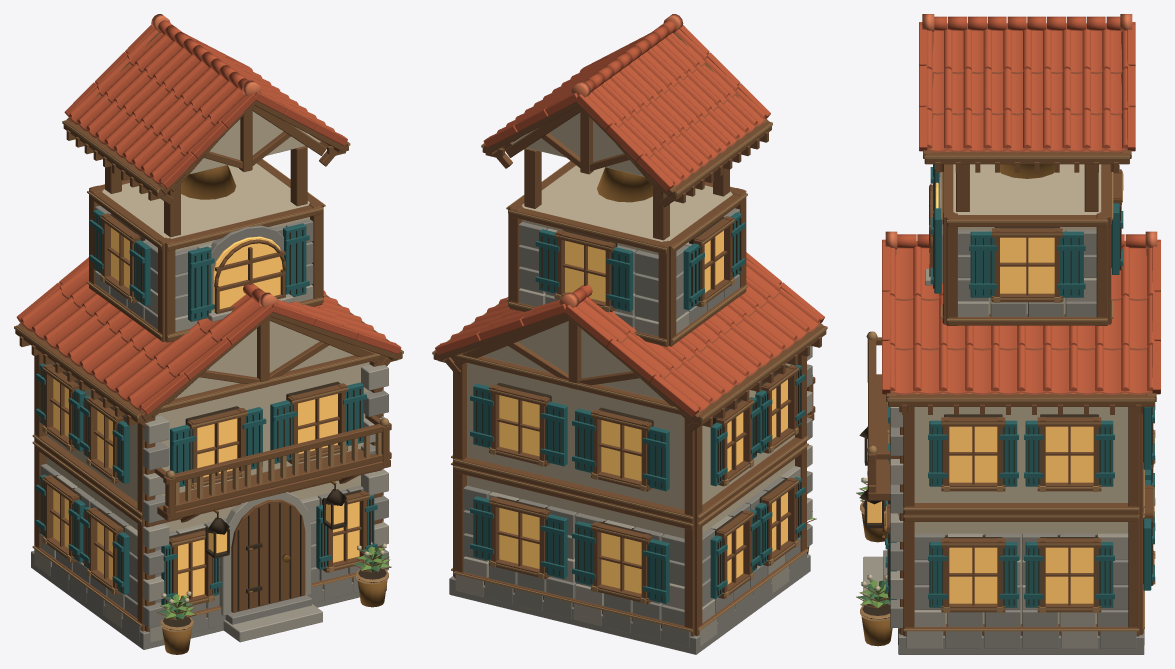
3 views of the same model, side by side, from view 1: azimuth 30°, elevation 25°; view 2: azimuth 150°, elevation 25°; view 3: azimuth 270°, elevation 25° (orthographic). The views are drawn at different scales.
Parts seen in each view (by area): view 1: alpine_tower_3_geometry, alpine_tower_3_geometry ceramic; view 2: alpine_tower_3_geometry, alpine_tower_3_geometry ceramic; view 3: alpine_tower_3_geometry, alpine_tower_3_geometry ceramic.
Boxes of the visible parts, bbox=[...] form: alpine_tower_3_geometry: bbox=[14, 32, 403, 654]; alpine_tower_3_geometry ceramic: bbox=[16, 14, 401, 415]; alpine_tower_3_geometry: bbox=[432, 32, 827, 654]; alpine_tower_3_geometry ceramic: bbox=[435, 14, 824, 416]; alpine_tower_3_geometry: bbox=[856, 31, 1156, 654]; alpine_tower_3_geometry ceramic: bbox=[882, 14, 1160, 394].
Bounding box in the file's own units: 0.9383 × 1.76 × 0.8449.
